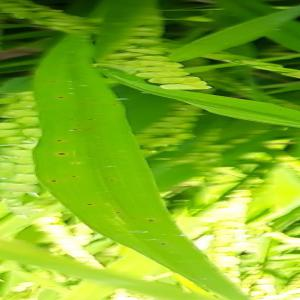Brown_Spot: (51, 146, 72, 161), (82, 200, 105, 213), (52, 132, 68, 146), (143, 213, 159, 226), (106, 174, 120, 188), (68, 124, 85, 134), (156, 239, 171, 250), (52, 92, 68, 102), (83, 113, 97, 124), (48, 175, 60, 187), (67, 171, 80, 182), (112, 207, 122, 218), (111, 99, 120, 111)
